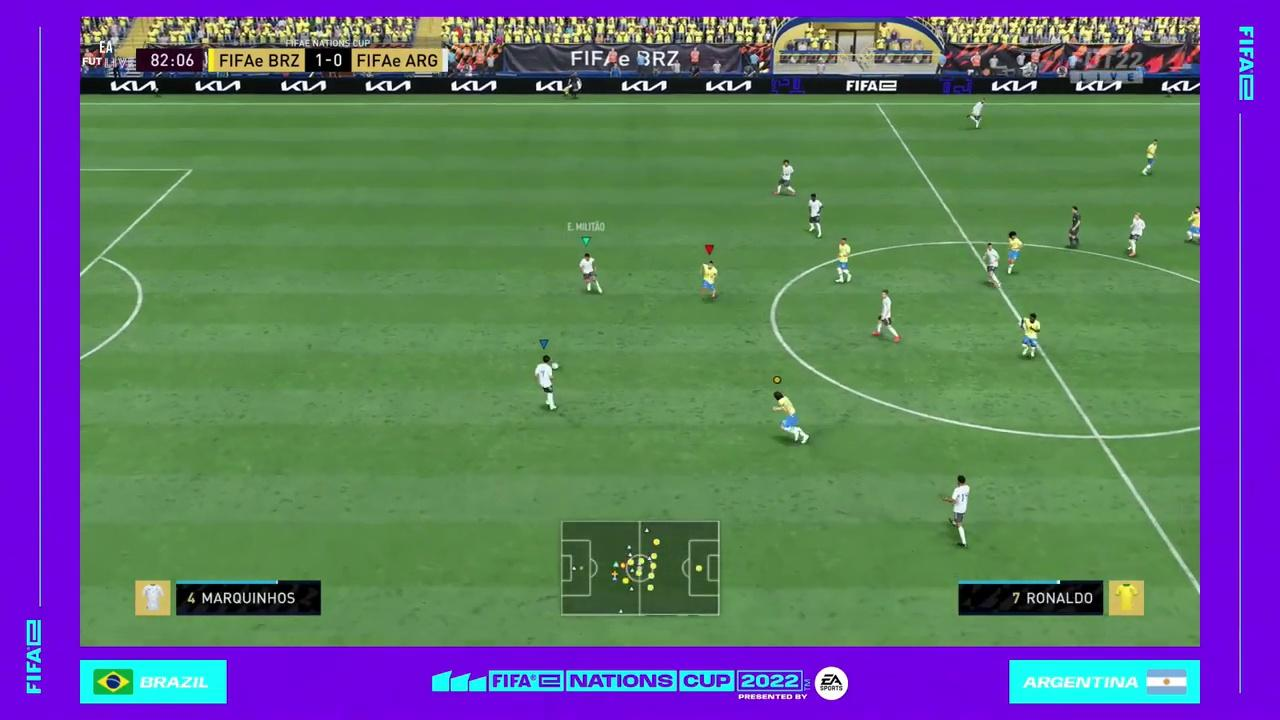scoreboard: (208, 46, 450, 72)
timestamp: (135, 47, 204, 72)
